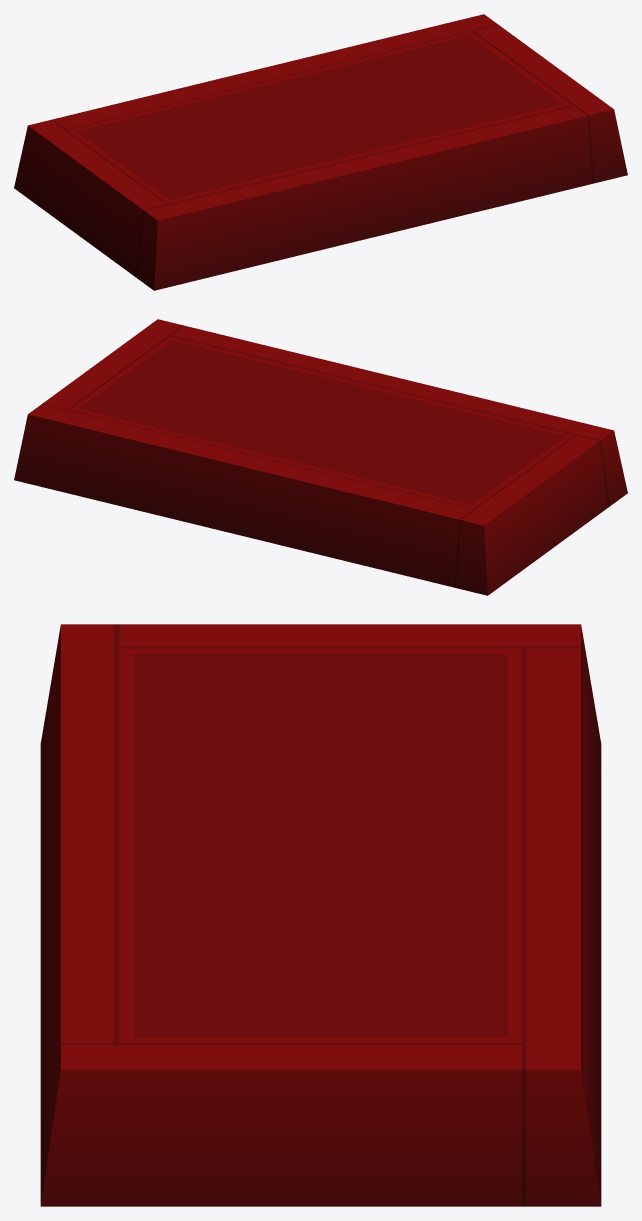
The model's file is geology-landforms-citywidesidewalktile_v1.fbx.
3 renders of one model, top to bottom at view 1: azimuth 30°, elevation 25°; view 2: azimuth 150°, elevation 25°; view 3: azimuth 270°, elevation 25°, orthographic. The views are drawn at different scales.
Visible parts, largest first — view 1: CityWideSidewalkTile_v1; view 2: CityWideSidewalkTile_v1; view 3: CityWideSidewalkTile_v1.
Boxes of the visible parts, x1,y1,x2,y2 form: CityWideSidewalkTile_v1: [14, 14, 627, 290]; CityWideSidewalkTile_v1: [14, 319, 627, 595]; CityWideSidewalkTile_v1: [40, 624, 601, 1206].
Size of the model in its own units: 6.31 by 0.9517 by 3.23.
